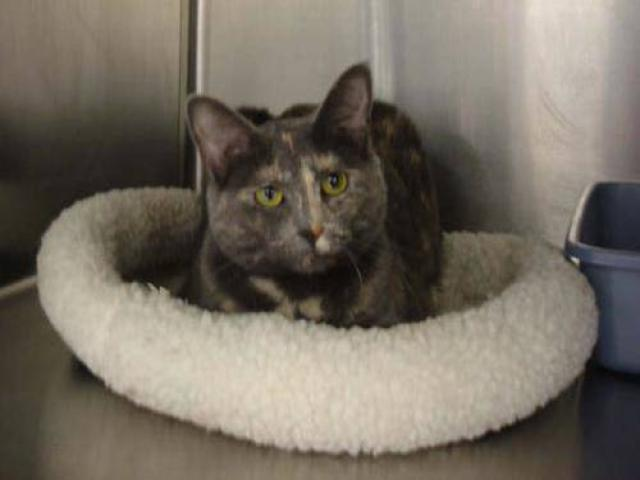cat: (170, 55, 470, 331)
